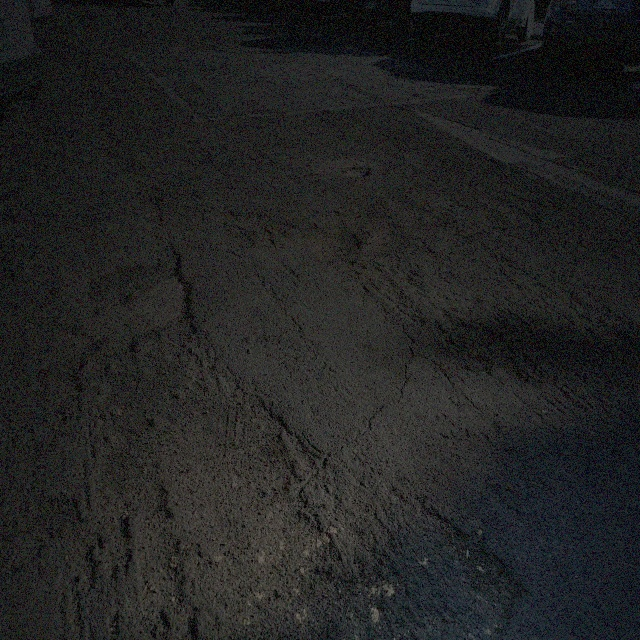pothole: (70, 329, 354, 632), (428, 505, 523, 632), (96, 274, 194, 347), (210, 206, 292, 249), (298, 221, 361, 270), (342, 164, 372, 181)
